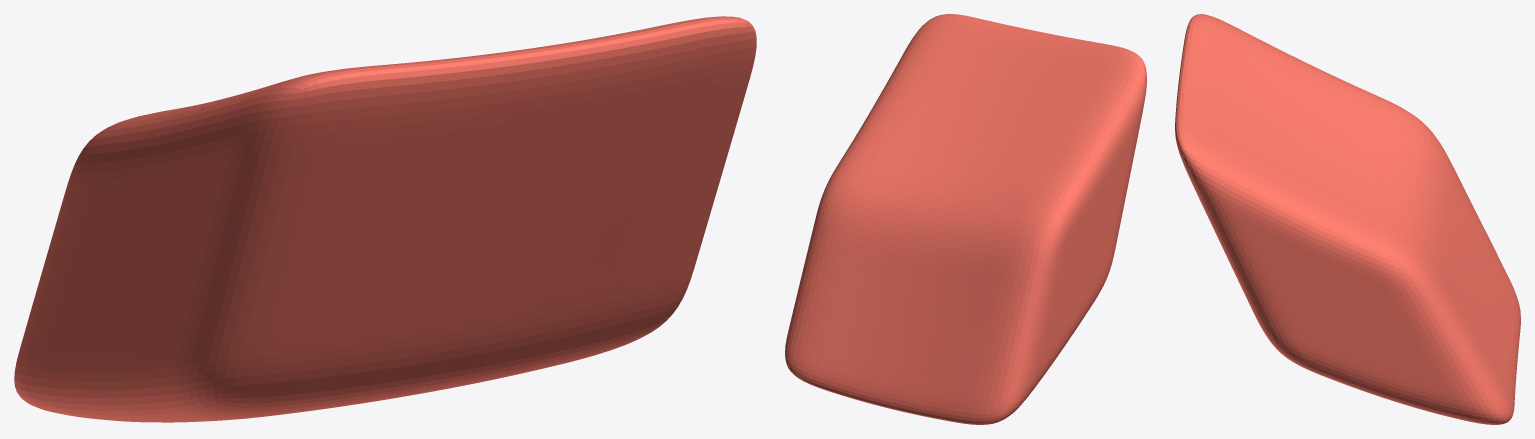
3 renders of one model, left to right at view 1: azimuth 30°, elevation 25°; view 2: azimuth 150°, elevation 25°; view 3: azimuth 270°, elevation 25°, orthographic. The views are drawn at different scales.
Parts seen in each view (by area): view 1: waves_1.034; view 2: waves_1.034; view 3: waves_1.034.
Boxes of the visible parts, bbox=[...] form: waves_1.034: bbox=[14, 16, 756, 422]; waves_1.034: bbox=[785, 14, 1146, 424]; waves_1.034: bbox=[1175, 14, 1520, 424].
Size of the model in its own units: 30.13 by 32.46 by 32.95.
